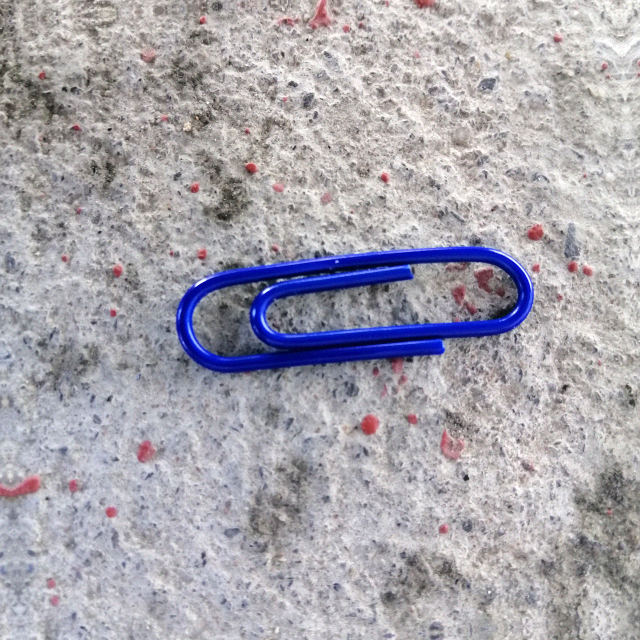pin: (179, 244, 531, 369)
